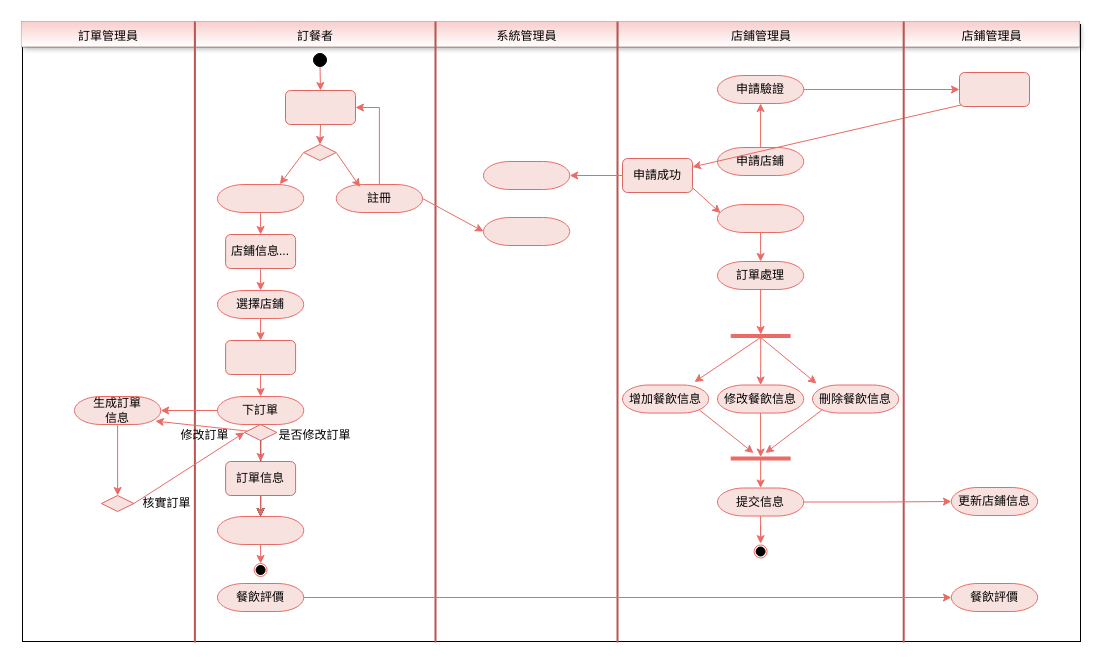
Some shapes in this 1103 by 661 pixel diagram are drawn without their labels. The centre of each missing label's shape, as x and y in pixels:
"商家 鑒察檔案" goes at pixel 994 89.
"增加訂餐信息" goes at pixel 526 231.
"登錄" goes at pixel 260 198.
"登錄系統" goes at pixel 760 218.
"退出系統" goes at pixel 260 530.
"進入網站" goes at pixel 320 107.
"錄入店鋪信息" goes at pixel 526 175.
"餐飲信息..." goes at pixel 260 357.
